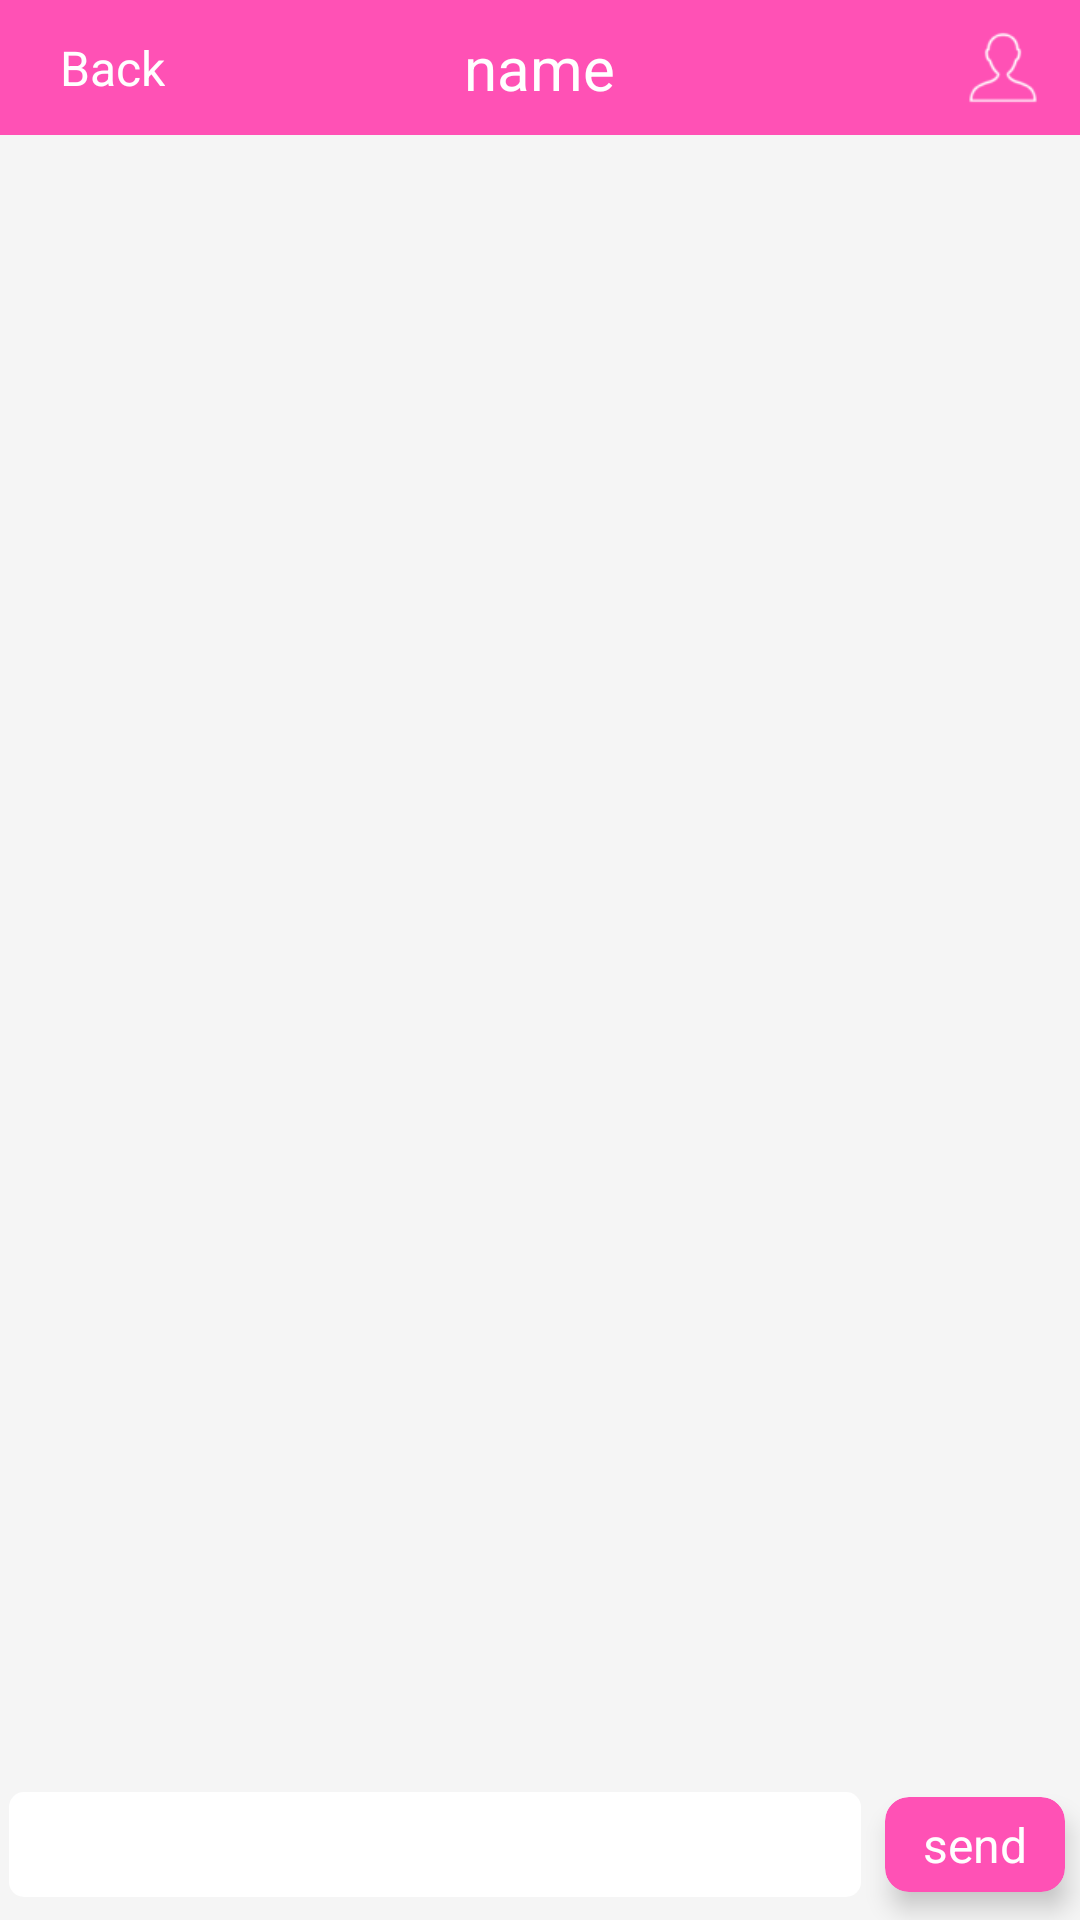

Named icons in this screenshot (1080 × 1920) and their centers, [x,y]:
person: [1003,67]
